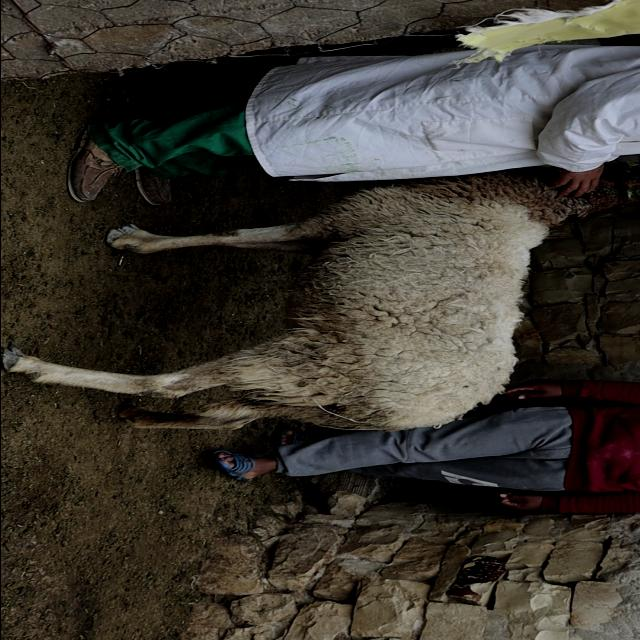Score_2: (2, 169, 640, 430)
